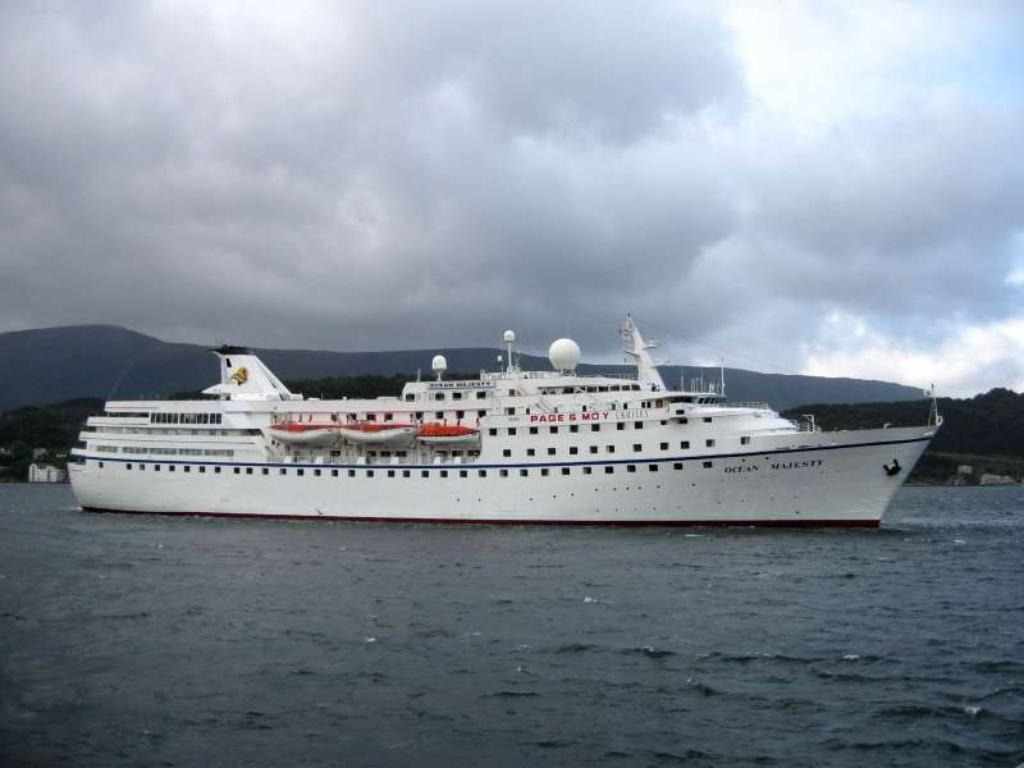PassengerShip: (52, 316, 948, 532)
